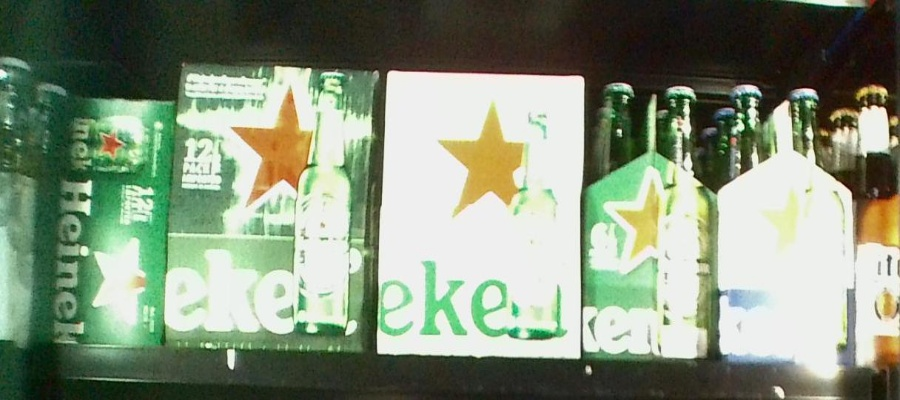bottle: (175, 57, 375, 354), (381, 69, 579, 357), (716, 82, 856, 366), (588, 77, 714, 360), (42, 93, 167, 348)
